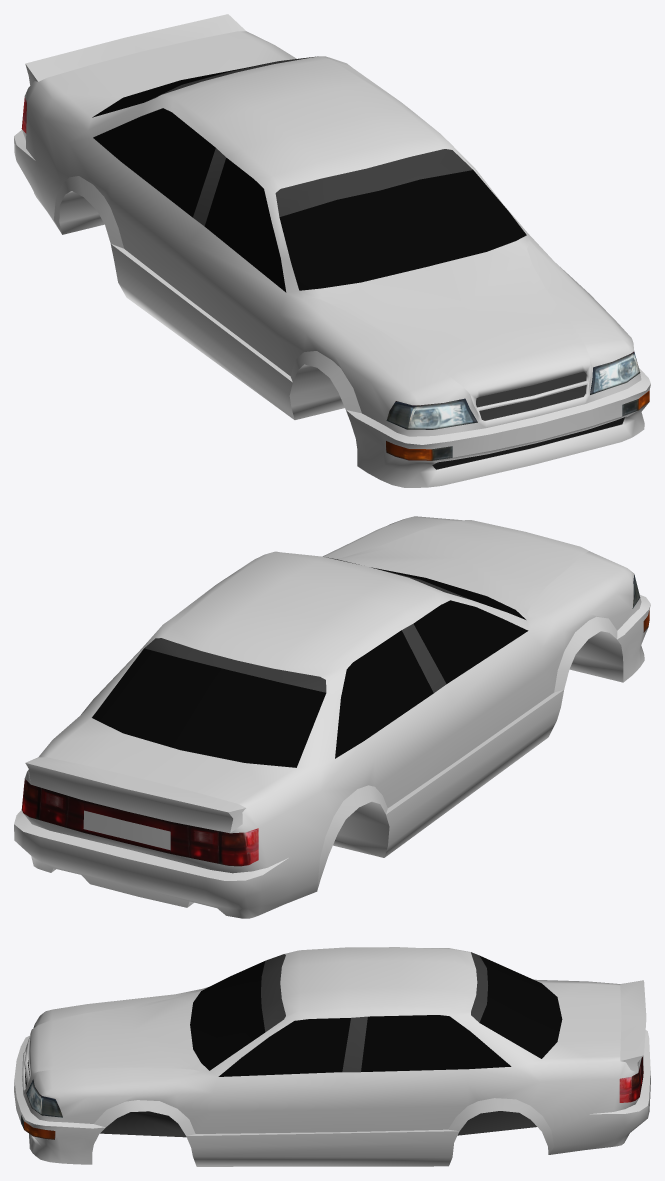
File: GermanV8Supercar.fbx
3 renders of one model, top to bottom at view 1: azimuth 30°, elevation 25°; view 2: azimuth 150°, elevation 25°; view 3: azimuth 270°, elevation 25°, orthographic. The views are drawn at different scales.
Visible parts, largest first — view 1: Plane; view 2: Plane; view 3: Plane.
Part boxes in pixels (x1,y1,x2,y2): Plane: (14, 14, 650, 487); Plane: (14, 516, 650, 918); Plane: (14, 947, 650, 1166).
Bounding box in the file's own units: 127 × 84.56 × 334.
